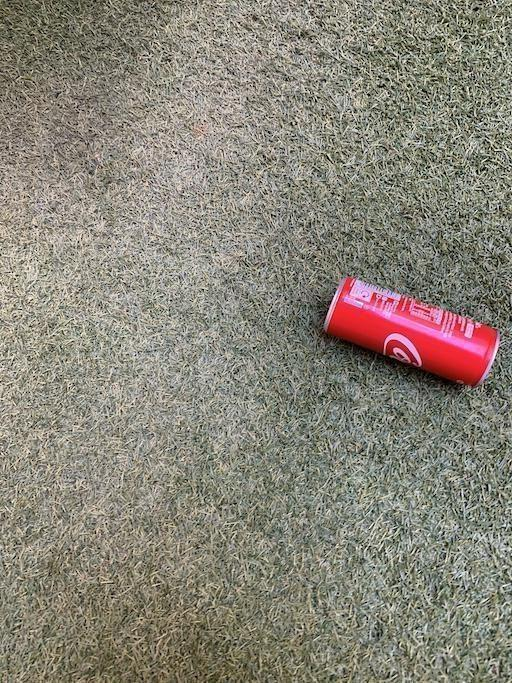tin can: (319, 271, 502, 390)
